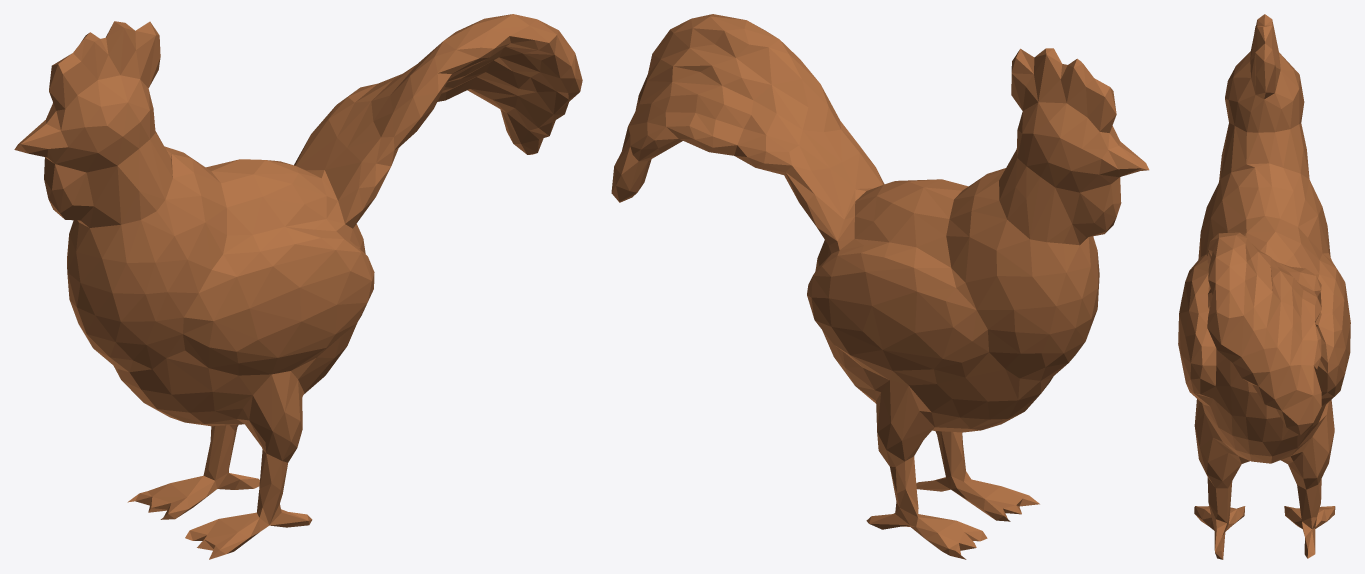
File: NEW_RECOVERY_030_LOD1.glb
3 renders of one model, left to right at view 1: azimuth 30°, elevation 25°; view 2: azimuth 150°, elevation 25°; view 3: azimuth 270°, elevation 25°, orthographic. The views are drawn at different scales.
Parts seen in each view (by area): view 1: Rooster_Solid; view 2: Rooster_Solid; view 3: Rooster_Solid.
Part boxes in pixels (<box>): Rooster_Solid: <box>14,14,582,559</box>; Rooster_Solid: <box>611,14,1149,559</box>; Rooster_Solid: <box>1178,14,1350,559</box>.
Size of the model in its own units: 2.76 by 2.53 by 0.8564.
